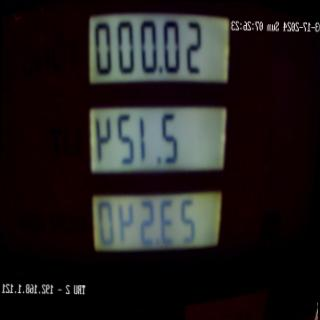screen: (76, 2, 235, 276)
